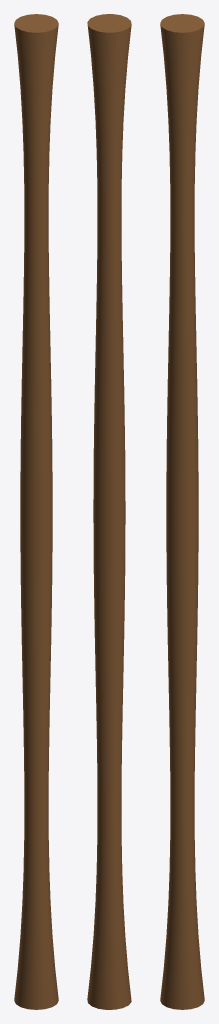
File: hourglass-strut.fbx
3 renders of one model, left to right at view 1: azimuth 90°, elevation 25°; view 2: azimuth 150°, elevation 25°; view 3: azimuth 270°, elevation 25°, orthographic.
Visible parts, largest first — view 1: hourglass_strut; view 2: hourglass_strut; view 3: hourglass_strut.
Boxes of the visible parts, x1,y1,x2,y2 form: hourglass_strut: (14,14,58,1009); hourglass_strut: (87,14,131,1009); hourglass_strut: (160,14,204,1009).
Bounding box in the file's own units: 11.6 × 280 × 11.6.
